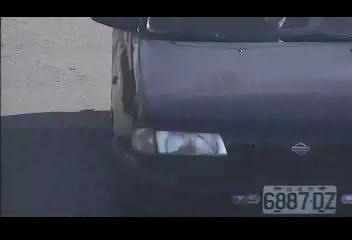plate: (261, 183, 339, 216)
